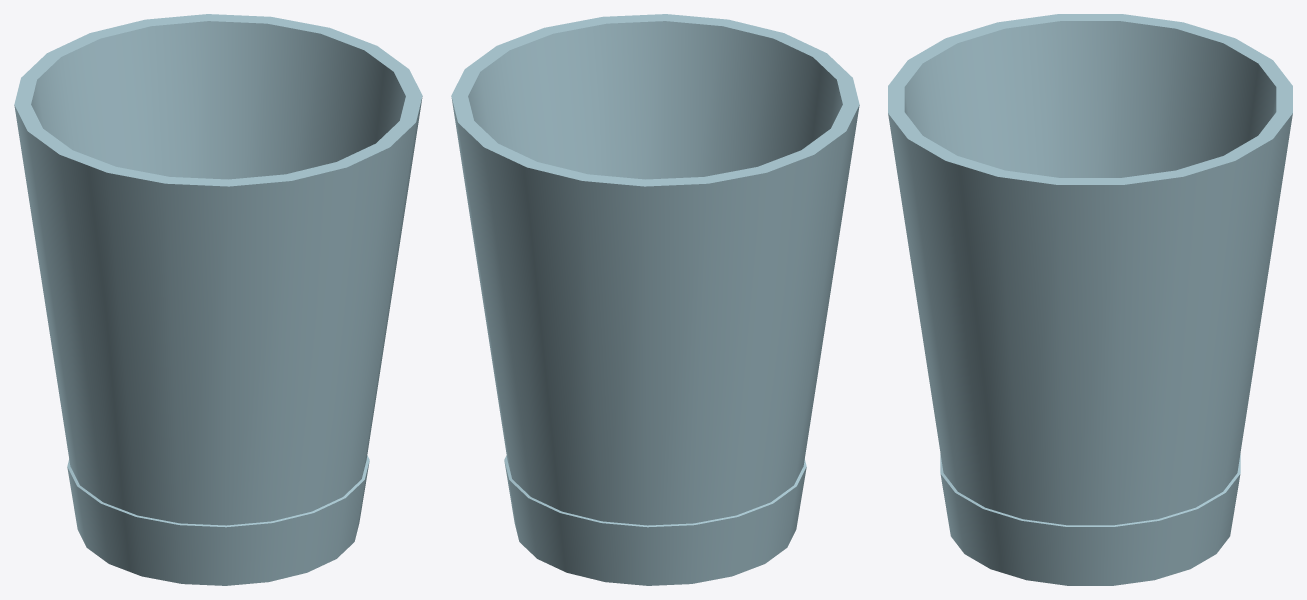
File: copo.fbx
3 renders of one model, left to right at view 1: azimuth 30°, elevation 25°; view 2: azimuth 150°, elevation 25°; view 3: azimuth 270°, elevation 25°, orthographic.
Parts seen in each view (by area): view 1: copo; view 2: copo; view 3: copo.
Boxes of the visible parts, x1,y1,x2,y2 form: copo: (14,14,422,585); copo: (451,14,859,585); copo: (888,14,1292,585).
Bounding box in the file's own units: 221 × 258 × 221.
